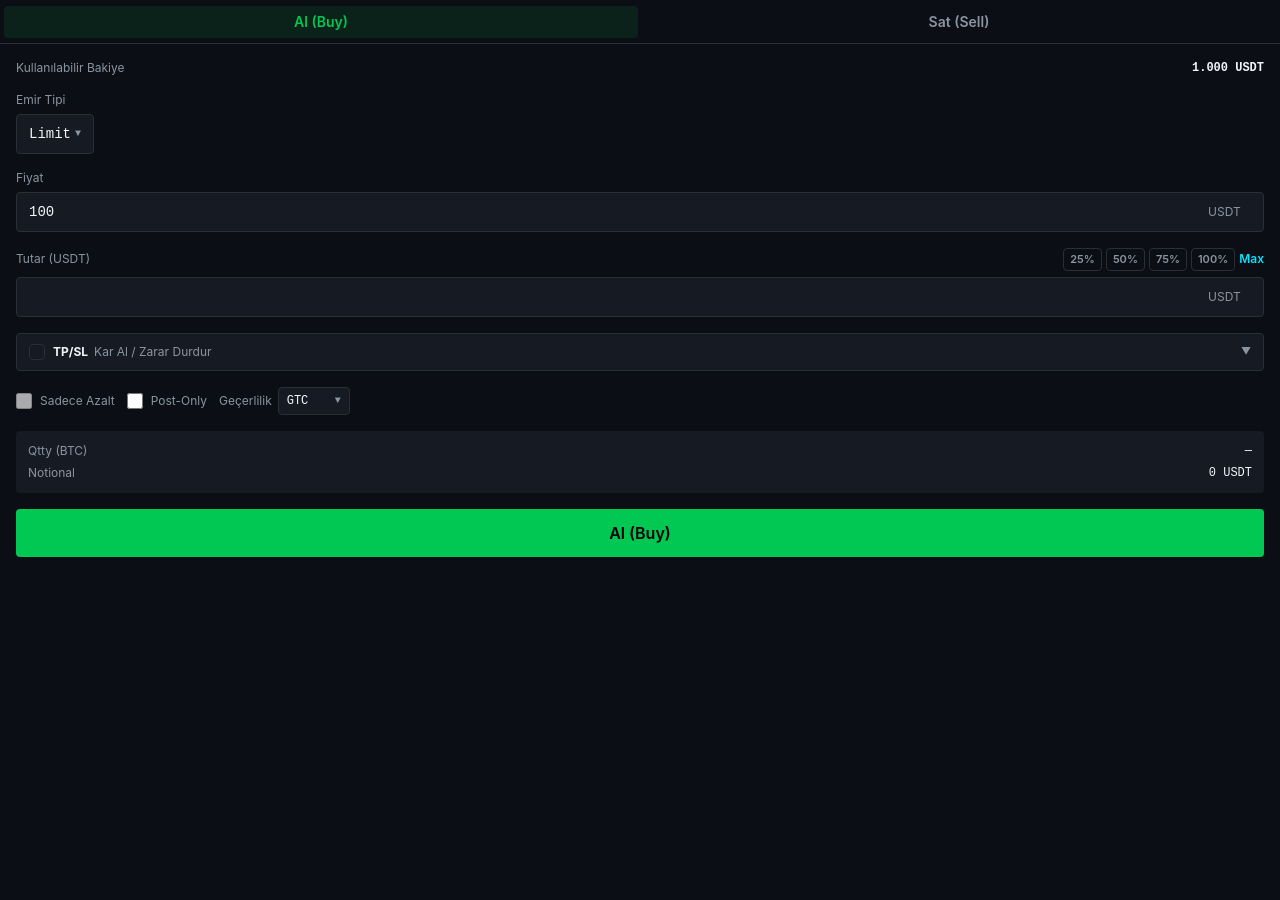
Test: TradingPanel sheet options › expands TP/SL inputs when the accordion is opened
Click the button "TP/SL": (71, 351) [17,334,1263,370]
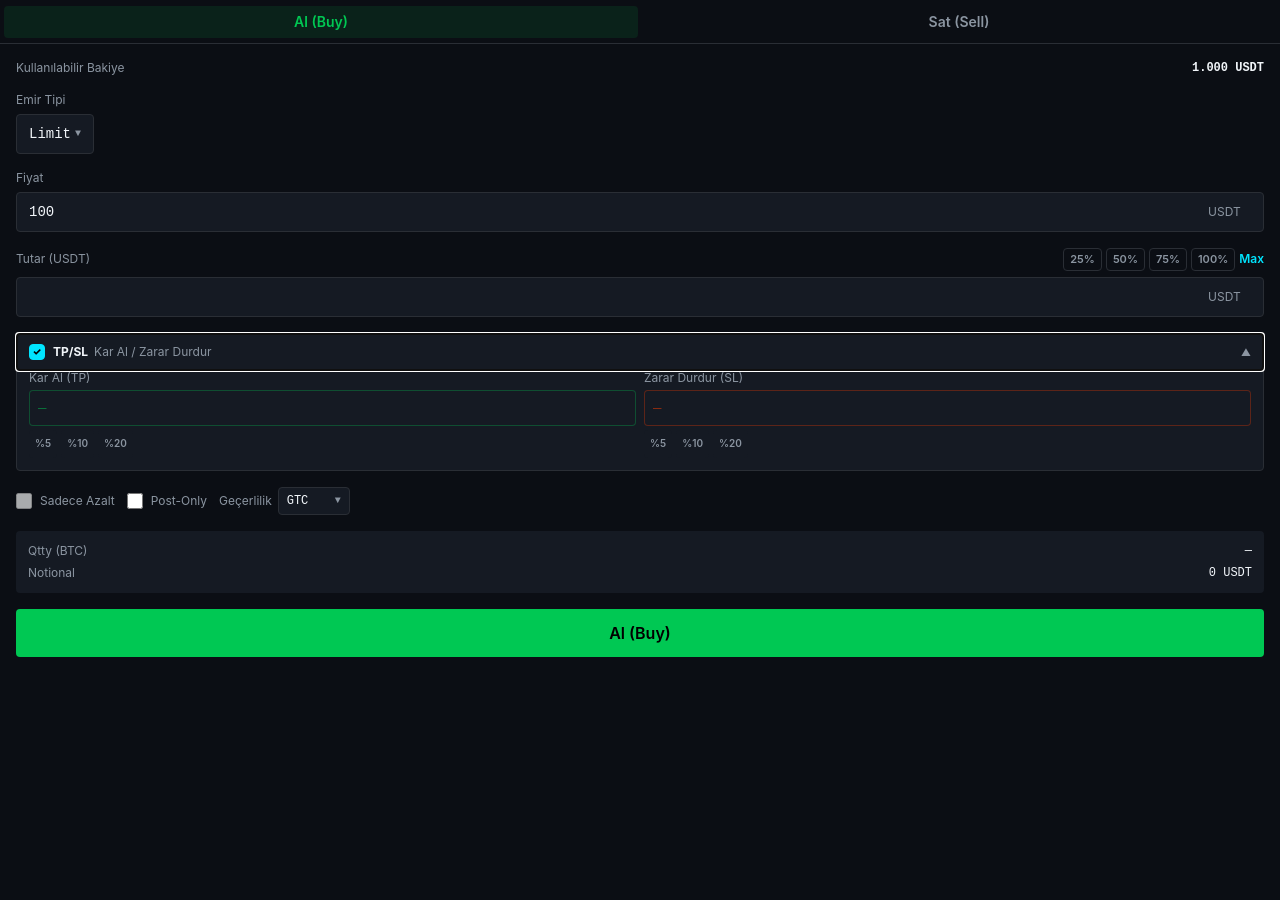
Result: the field named "Take profit price" is shown at [29,390,636,426]
Result: the field named "Stop loss price" is shown at [644,390,1251,426]
